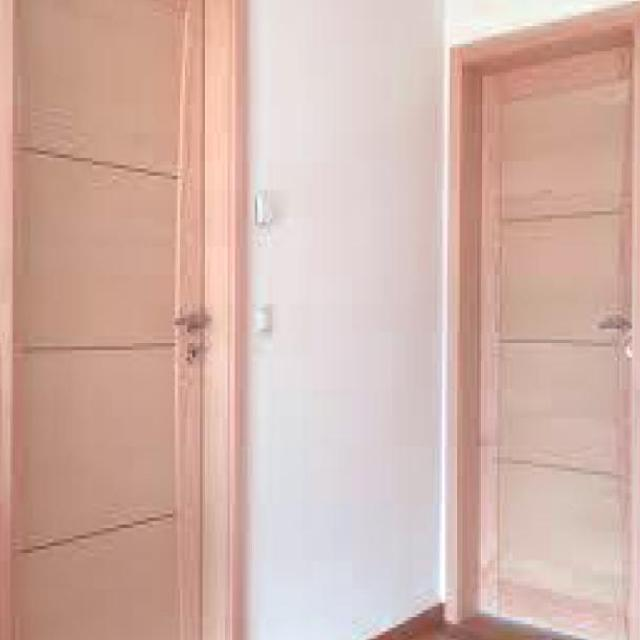door: (1, 0, 231, 638), (450, 15, 640, 640)
